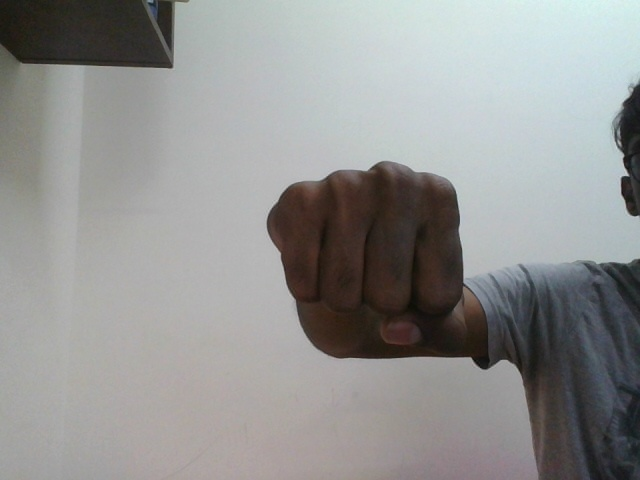Yes: (273, 161, 468, 352)
